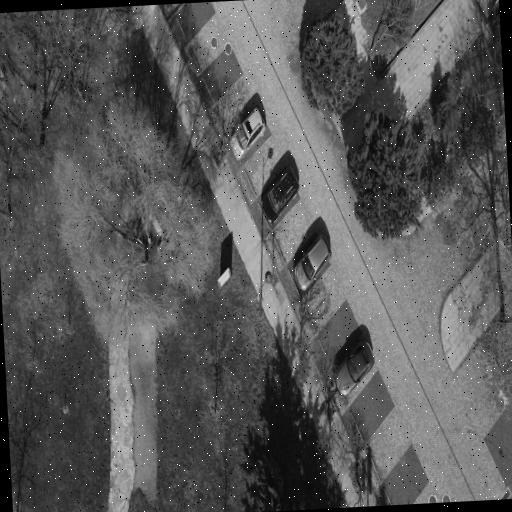person: (334, 337, 374, 396), (262, 166, 299, 224), (295, 234, 331, 291), (231, 108, 265, 160)
